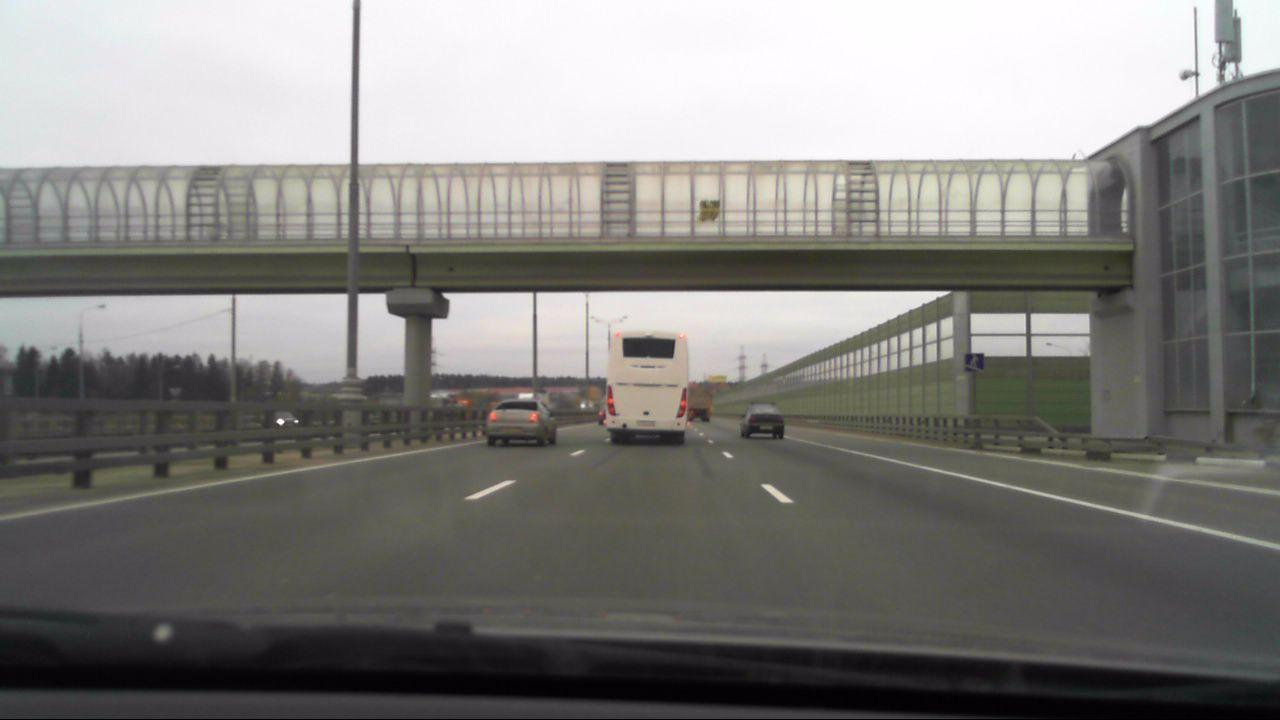6_7: (964, 353, 983, 371)
